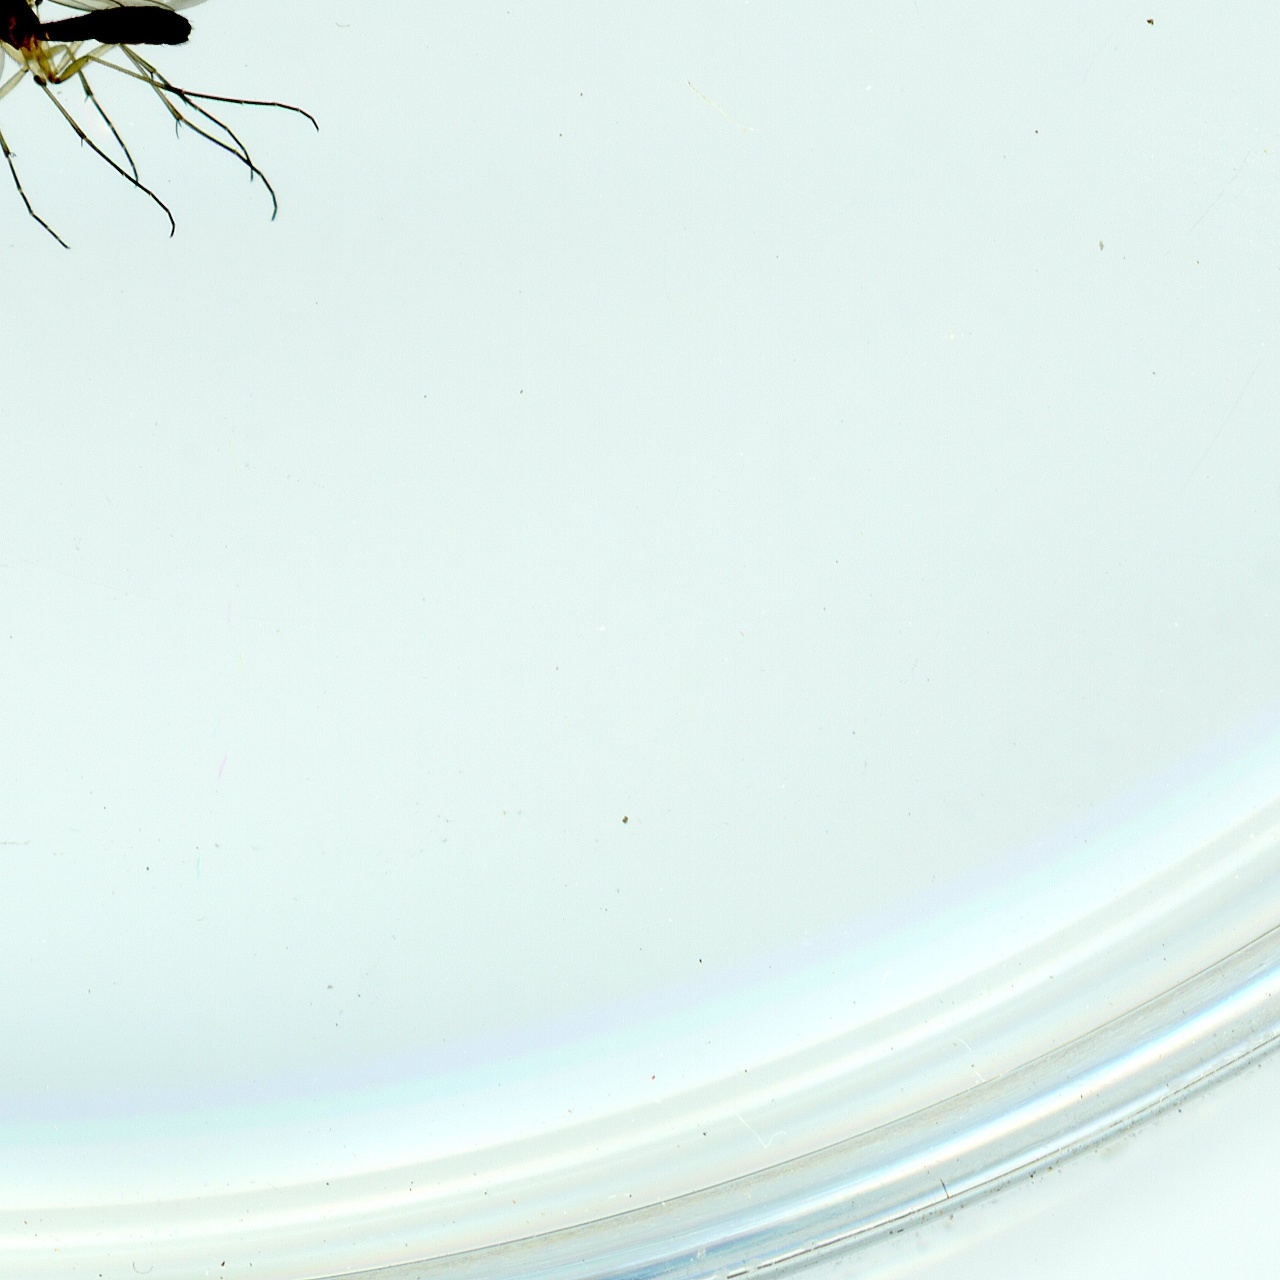arthropod: (0, 0, 325, 254)
